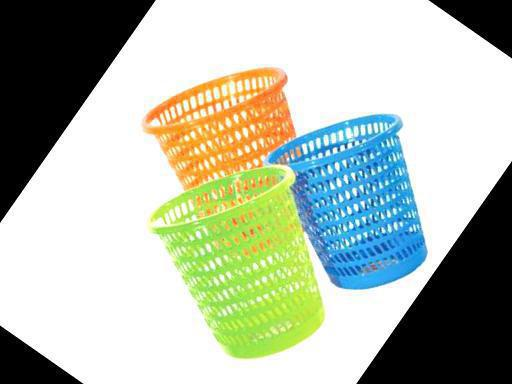Bote de Basura: (107, 115, 381, 384), (105, 20, 362, 279), (222, 66, 481, 320)
